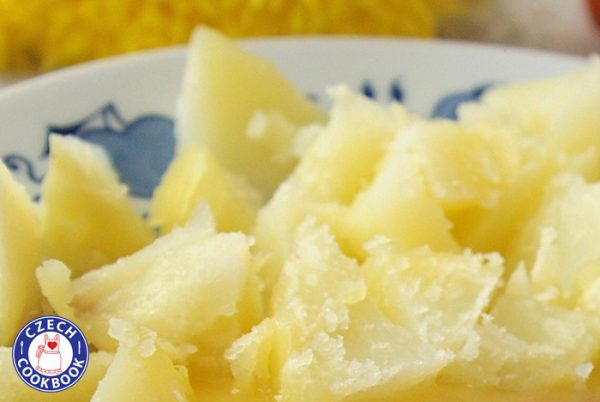boiled potatoes: (36, 66, 600, 399)
